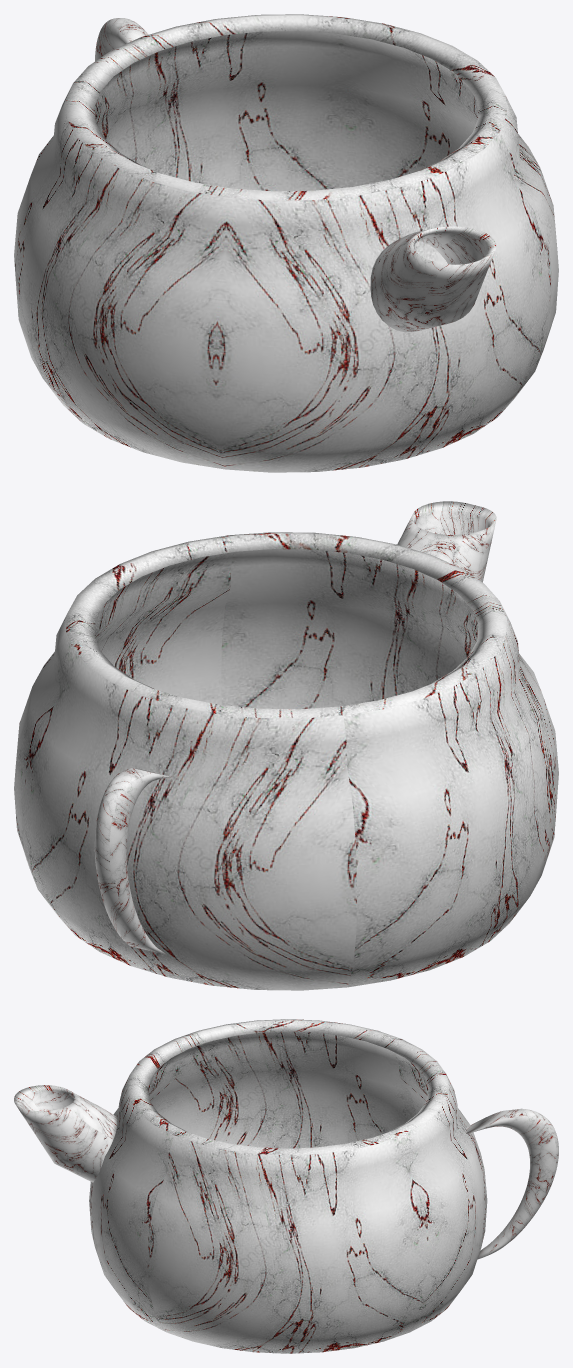
The model's file is pot1.fbx.
3 renders of one model, top to bottom at view 1: azimuth 30°, elevation 25°; view 2: azimuth 150°, elevation 25°; view 3: azimuth 270°, elevation 25°, orthographic. The views are drawn at different scales.
Visible parts, largest first — view 1: Circle, Circle.001, Circle.002; view 2: Circle, Circle.002, Circle.001; view 3: Circle, Circle.001, Circle.002.
Boxes of the visible parts, box(x1,y1,x2,y2) form: Circle: box(14, 14, 558, 472); Circle.001: box(370, 226, 496, 332); Circle.002: box(95, 18, 148, 61); Circle: box(14, 532, 558, 990); Circle.002: box(94, 767, 172, 953); Circle.001: box(397, 501, 496, 582); Circle: box(89, 1019, 487, 1353); Circle.001: box(14, 1085, 117, 1182); Circle.002: box(466, 1108, 558, 1259).
Bounding box in the file's own units: 233 × 127 × 319.
Materials: 1 (1 with a texture image).
